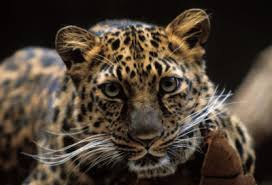amur_leopard: (12, 9, 244, 171)
